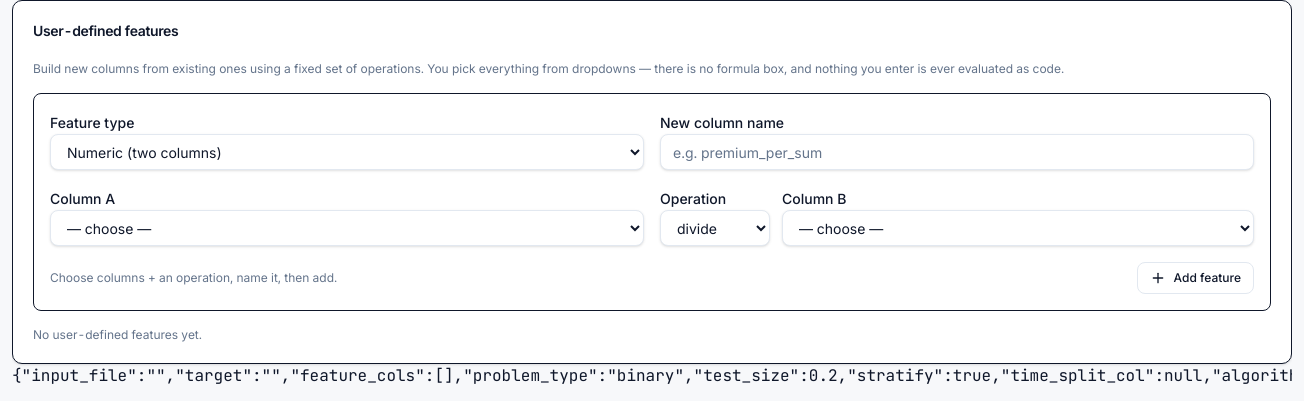
Test: FeatureBuilderPanel › blocks an empty name with a clear message
Select "premium" in the dropdown labelled "Column A" at (347, 228), box [50,210,644,246]
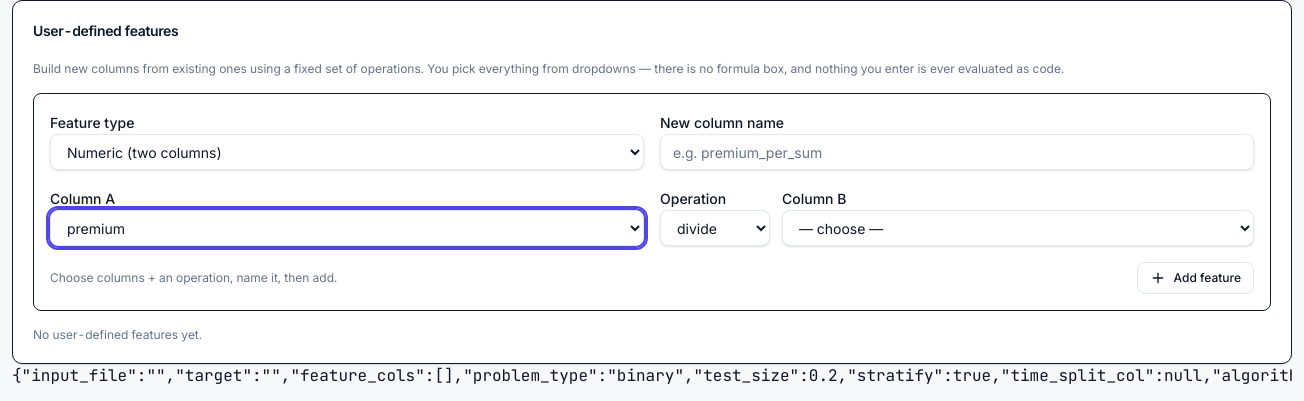
Select "sum_assured" in the dropdown labelled "Column B" at (1018, 228), box [782,210,1254,246]
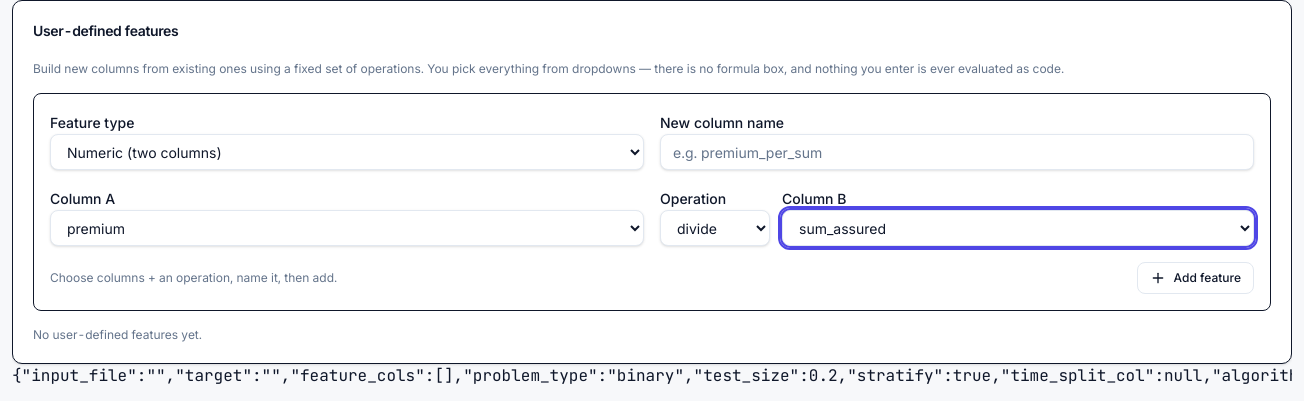
Click the button "Add feature" at (1195, 278), box [1136,262,1254,294]
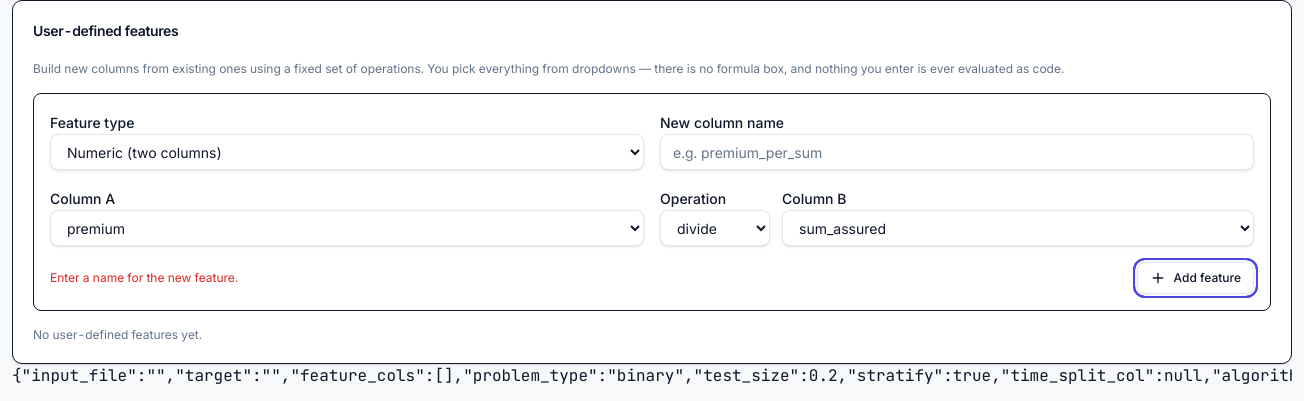
Expected: the message shows "Enter a name", [50,270,238,285]
